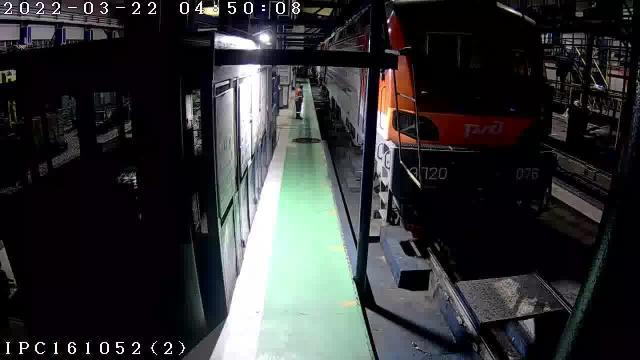person: (295, 87, 303, 118)
train: (376, 0, 555, 224)
